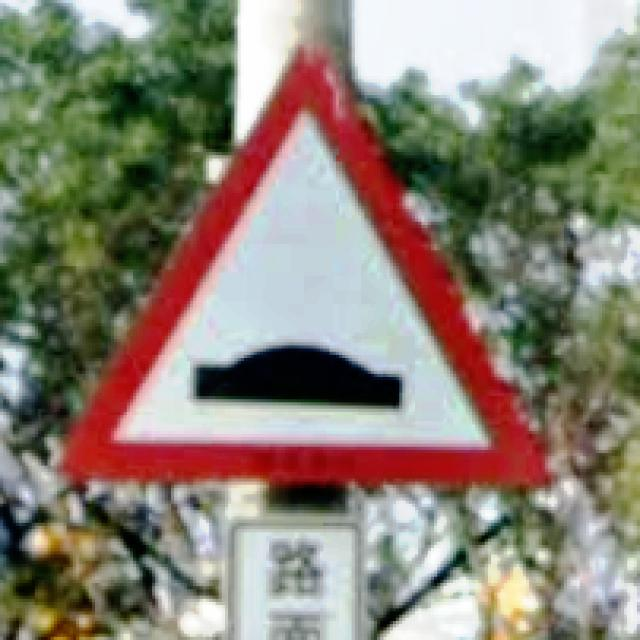hump: (55, 48, 551, 485)
